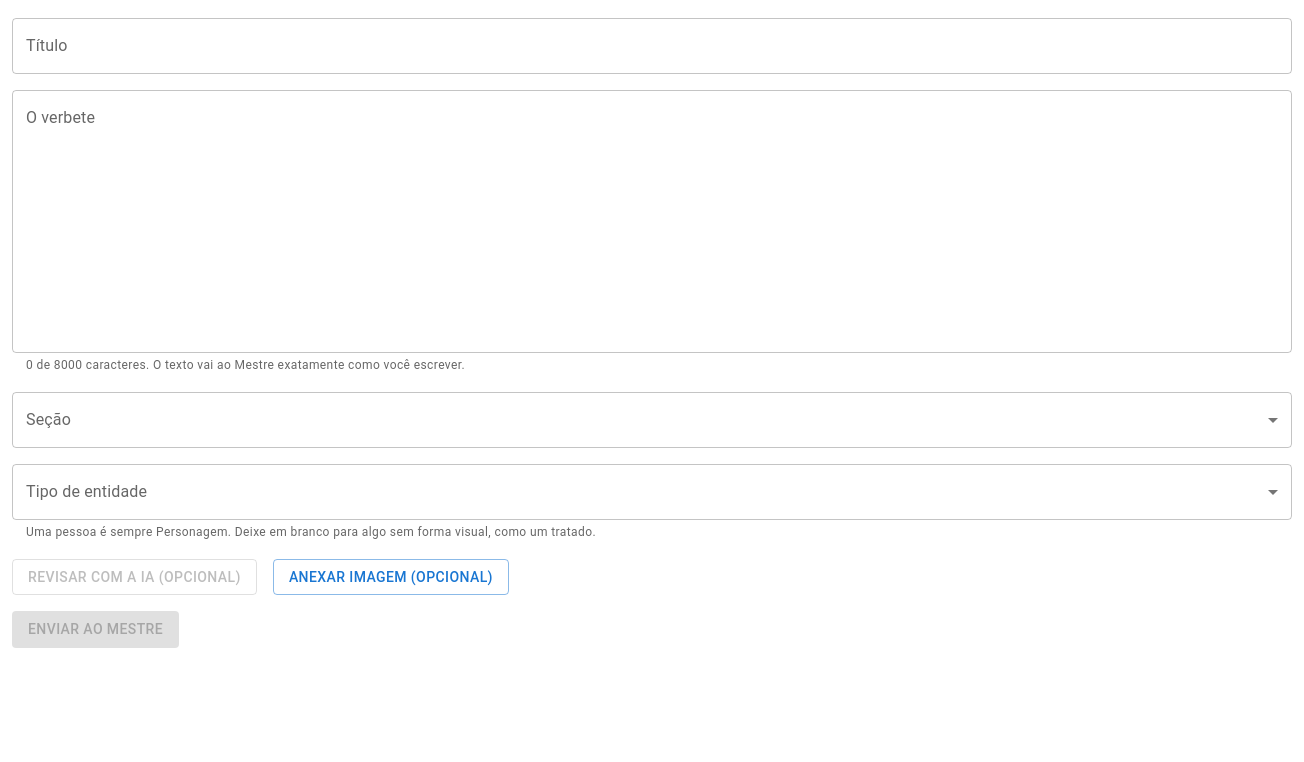
Test: o que a revisão mostra › mostra contradição com o cânone como aviso, não como erro
Type "Sera de Toreador" into the field labelled "Título" at [652, 46], box x1=12 y1=18 x2=1292 y2=74
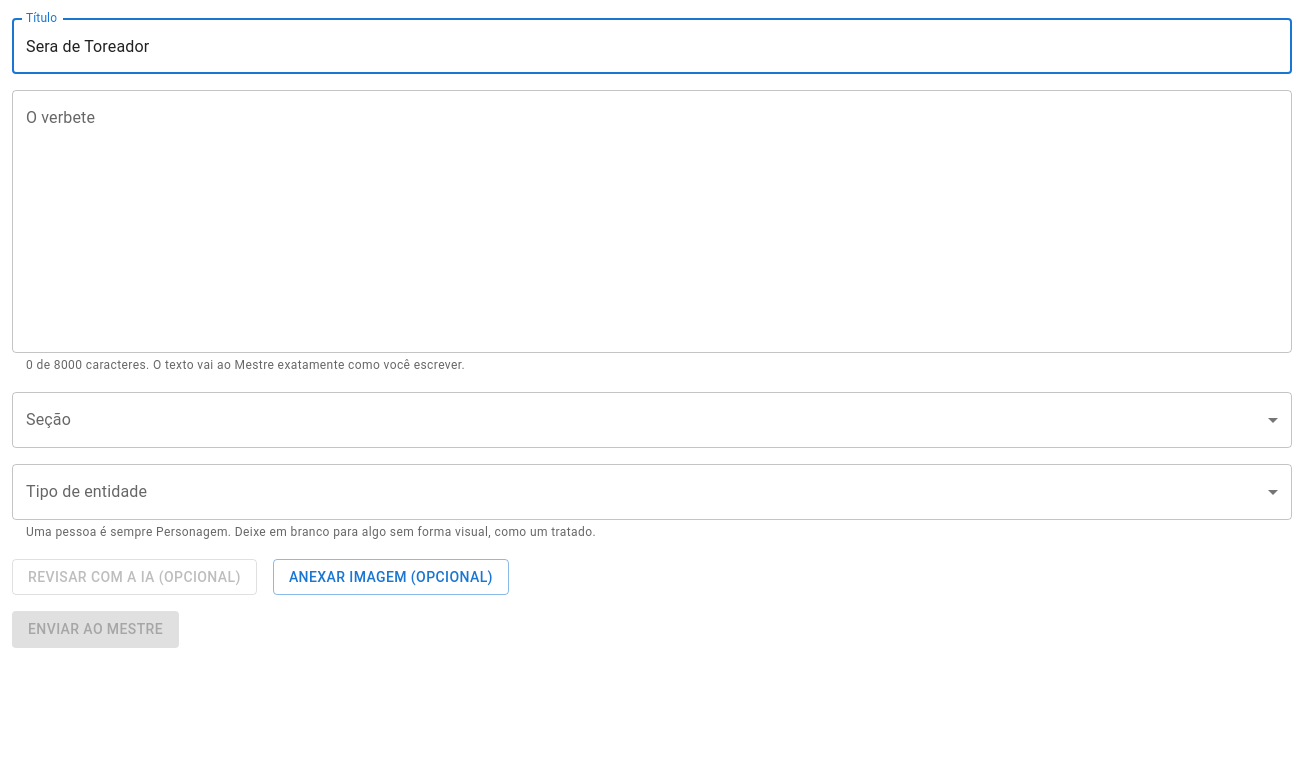
Type "Batedora das fronteiras do Norte, conhecida por atravessar o Muro dos Ausentes sozinha em pleno inverno." into the text box labelled "O verbete" at [652, 222], box x1=26 y1=106 x2=1278 y2=336
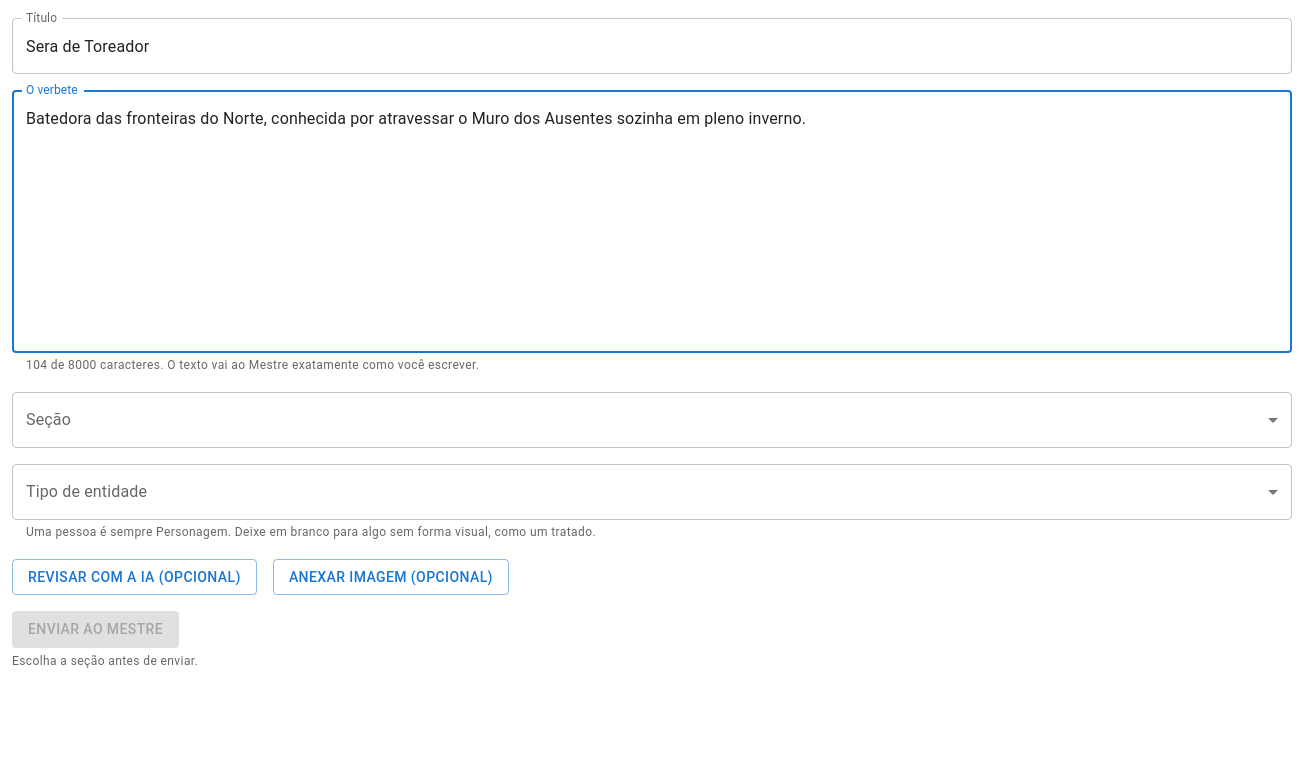
Click the button "Revisar com a IA (opcional)" at [134, 577], box x1=12 y1=559 x2=257 y2=595
(page scrolled)
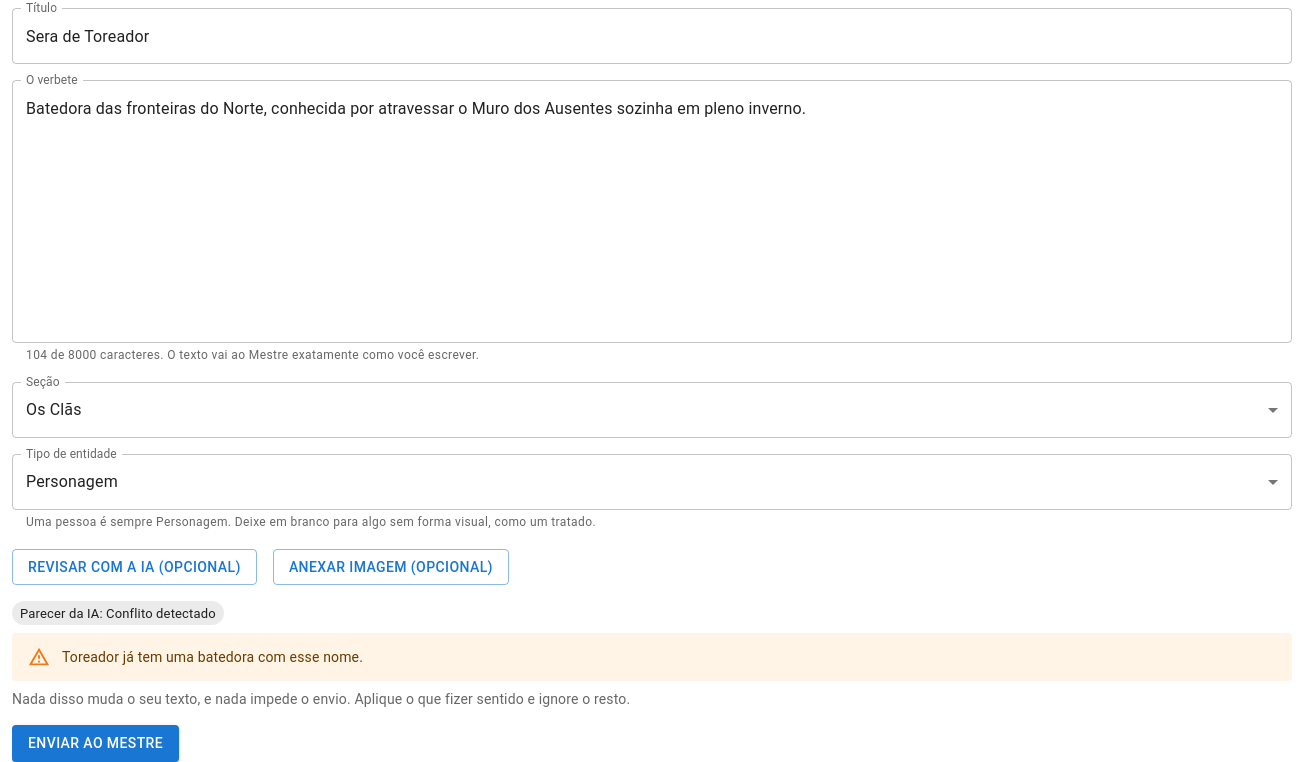
Expected: the button "Enviar ao Mestre" is enabled, x1=12 y1=725 x2=179 y2=761
